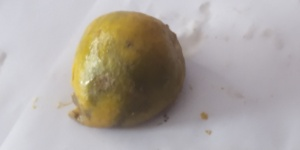BAD: (65, 8, 185, 129)
